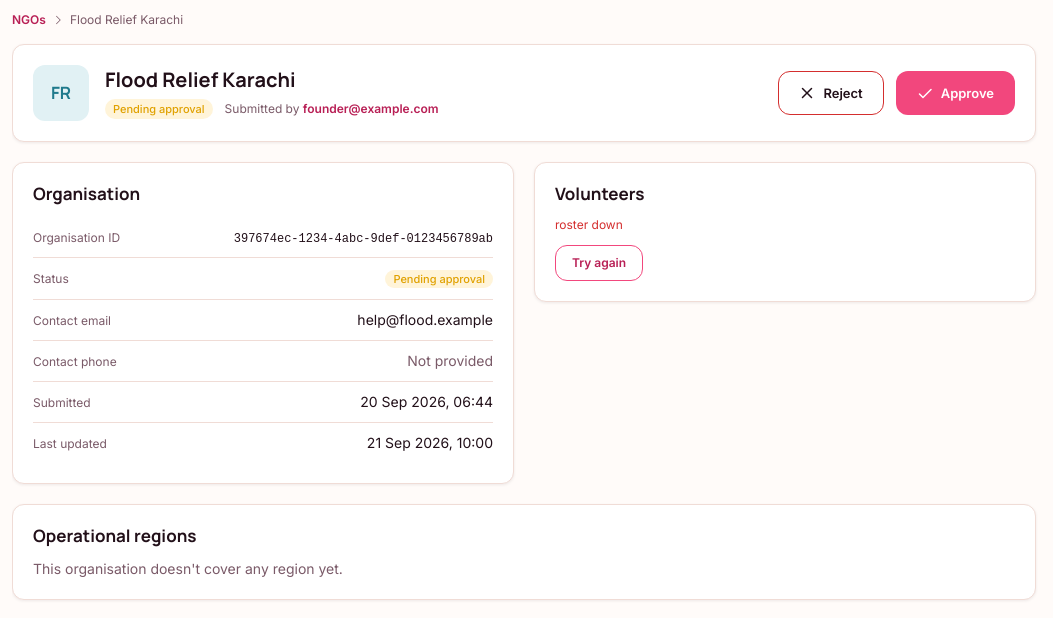
Scenario: NgoDetailPage › a failed roster shows an error in its own card and leaves the page alone, with a retry that recovers
Check: the heading "Flood Relief Karachi" is shown, box [105,66,296,93]
Check: the text "roster down" is shown, box [555,217,623,232]
Click the button named "Try again" below "roster down" at (599, 263), box [555,245,643,281]
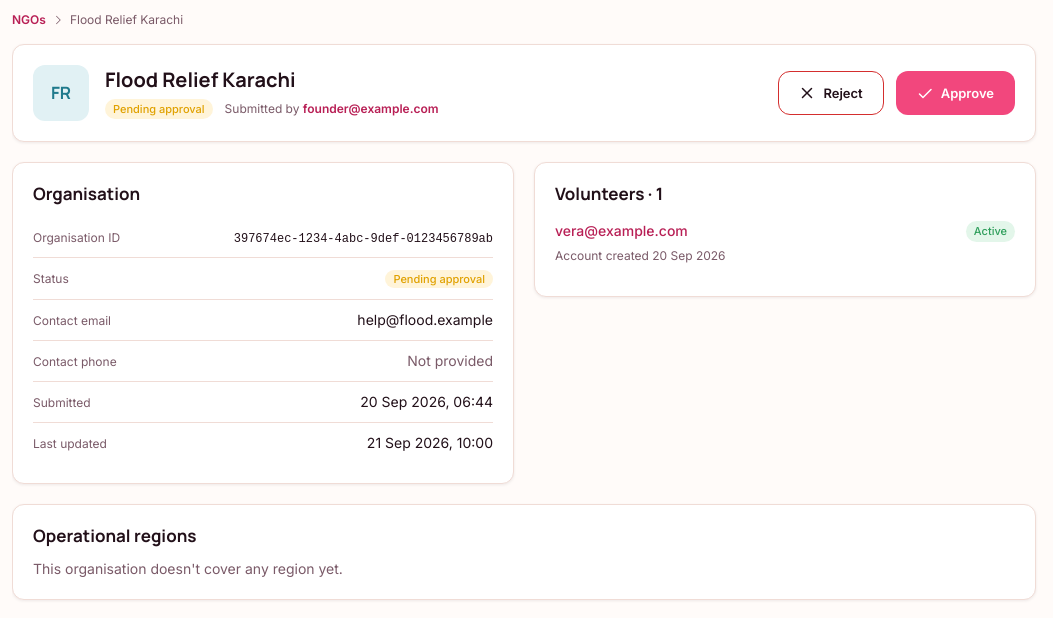
Check: the link "vera@example.com" is shown, box [555,222,688,239]
